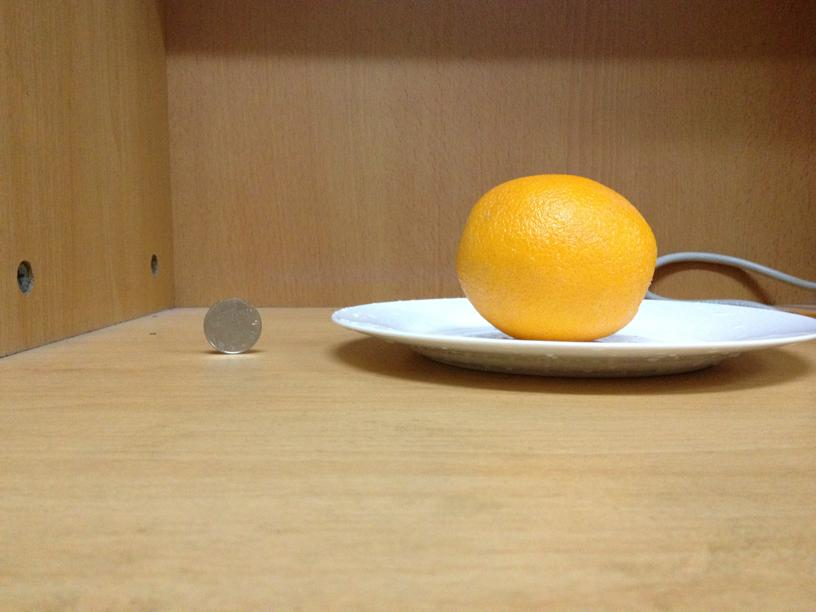coin: (201, 295, 262, 352)
orange: (456, 169, 658, 339)
